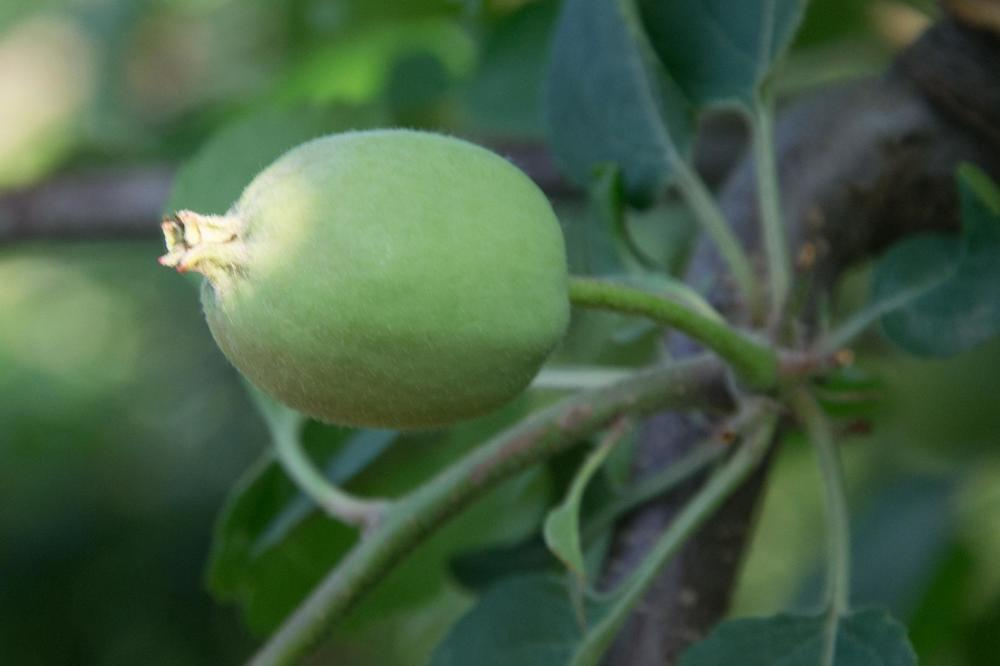apple: (156, 123, 575, 434)
